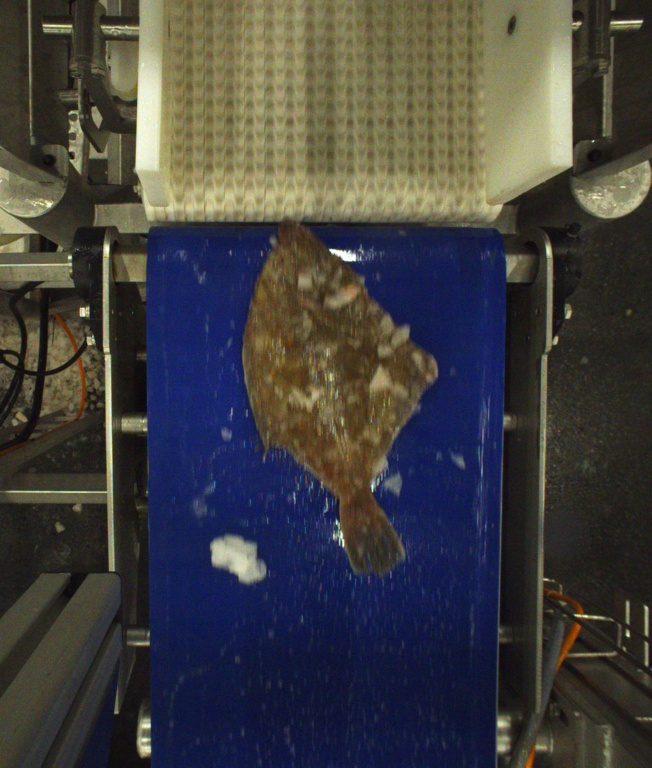PLE: (242, 217, 439, 574)
